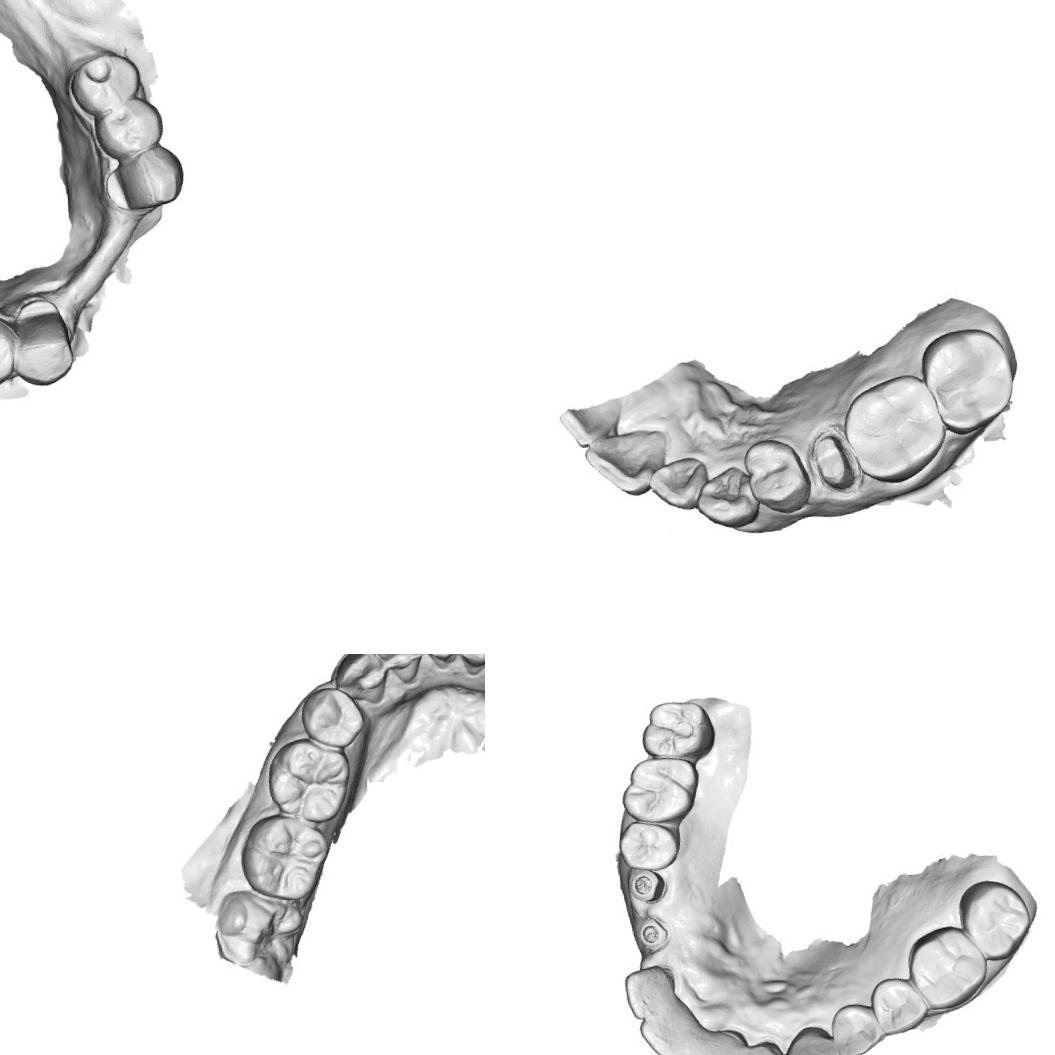canine: (93, 140, 192, 218), (10, 298, 75, 389), (698, 466, 759, 528), (332, 654, 389, 708), (776, 1020, 844, 1055)
crown: (806, 426, 862, 498)
implant: (626, 867, 662, 905), (637, 914, 670, 952)
incisor: (585, 424, 670, 498), (622, 963, 685, 1026), (652, 452, 712, 512), (637, 1010, 694, 1055), (378, 654, 426, 687), (675, 1039, 742, 1055), (418, 654, 470, 671), (730, 1042, 787, 1055), (458, 654, 485, 674)
molar: (842, 370, 948, 486), (916, 321, 1019, 436), (236, 810, 339, 906), (210, 883, 310, 978), (904, 920, 994, 1014), (264, 734, 354, 824), (957, 876, 1034, 966), (616, 752, 702, 827), (635, 695, 718, 764)
premolar: (742, 432, 814, 516), (66, 43, 144, 114), (90, 95, 165, 162), (296, 682, 364, 751), (868, 973, 933, 1039), (616, 816, 684, 876), (829, 1000, 886, 1055), (0, 310, 18, 391)
